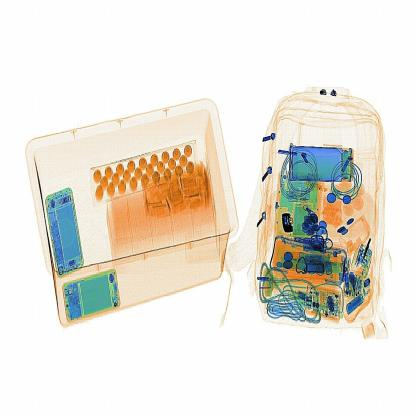pliers: (281, 207, 300, 237)
